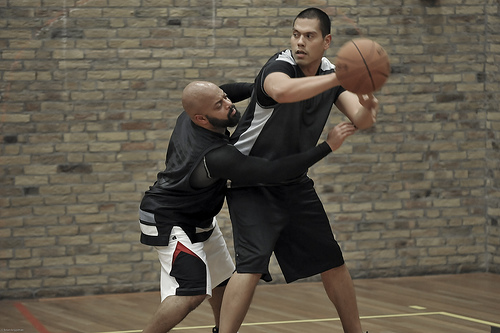basketball: (335, 37, 391, 96)
